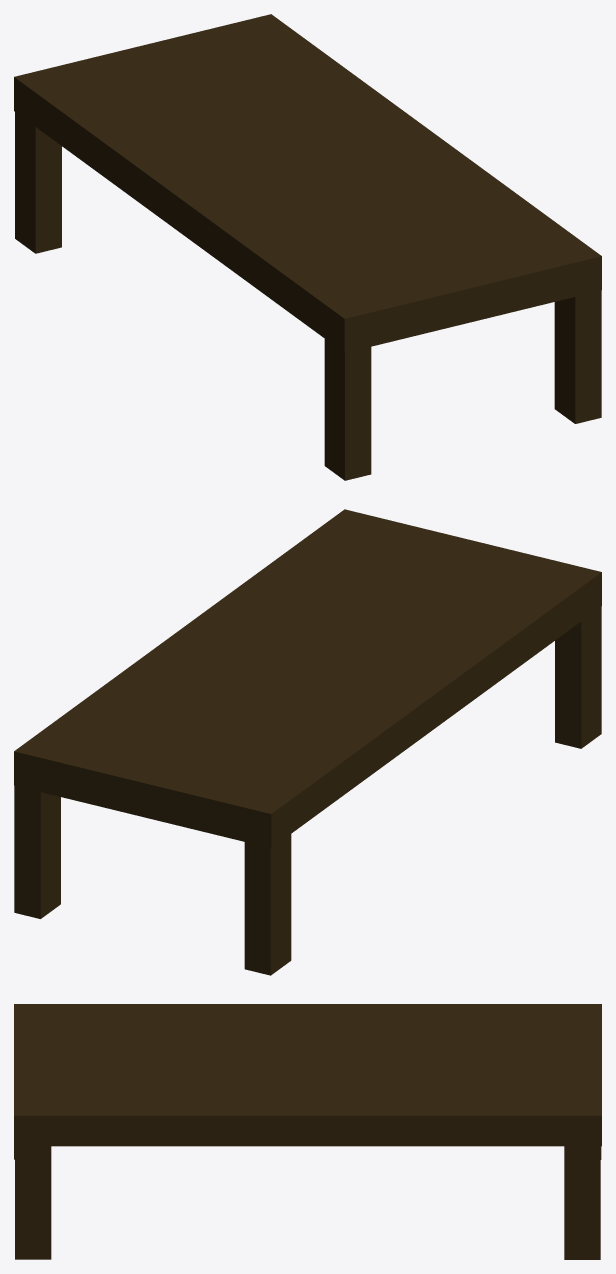
The model's file is Table2.FBX.
The picture shows the model from 3 angles, top to bottom: view 1: azimuth 30°, elevation 25°; view 2: azimuth 150°, elevation 25°; view 3: azimuth 270°, elevation 25°; orthographic projection. The views are drawn at different scales.
Visible parts, largest first — view 1: Box001, Leg2, Leg1, Leg004; view 2: Box001, Leg004, Leg003, Leg2; view 3: Box001, Leg1, Leg003.
Boxes of the visible parts, x1=… form: Box001: x1=14, y1=14, x2=601, y2=352; Leg2: x1=324, y1=339, x2=371, y2=480; Leg1: x1=554, y1=290, x2=601, y2=423; Leg004: x1=15, y1=112, x2=61, y2=253; Box001: x1=14, y1=509, x2=601, y2=848; Leg004: x1=244, y1=834, x2=291, y2=975; Leg003: x1=14, y1=785, x2=60, y2=918; Leg2: x1=555, y1=607, x2=601, y2=748; Box001: x1=14, y1=1004, x2=601, y2=1146; Leg1: x1=15, y1=1146, x2=51, y2=1259; Leg003: x1=564, y1=1146, x2=600, y2=1259.
Size of the model in its own units: 53.99 by 32.45 by 120.
